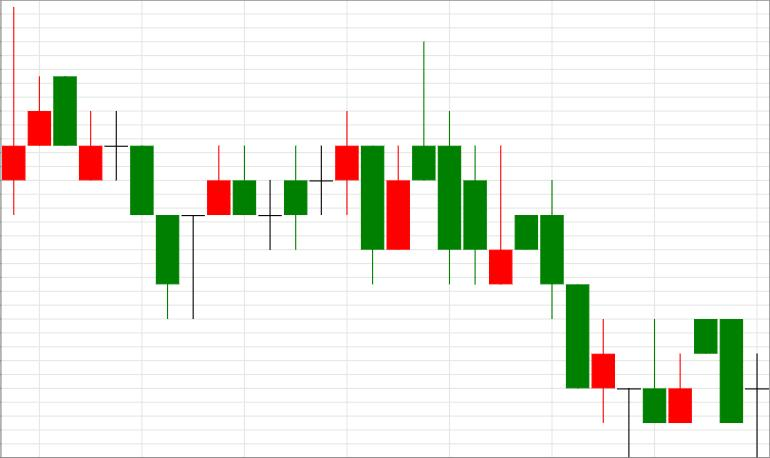inverse_hammer_rise: (515, 182, 666, 457)
